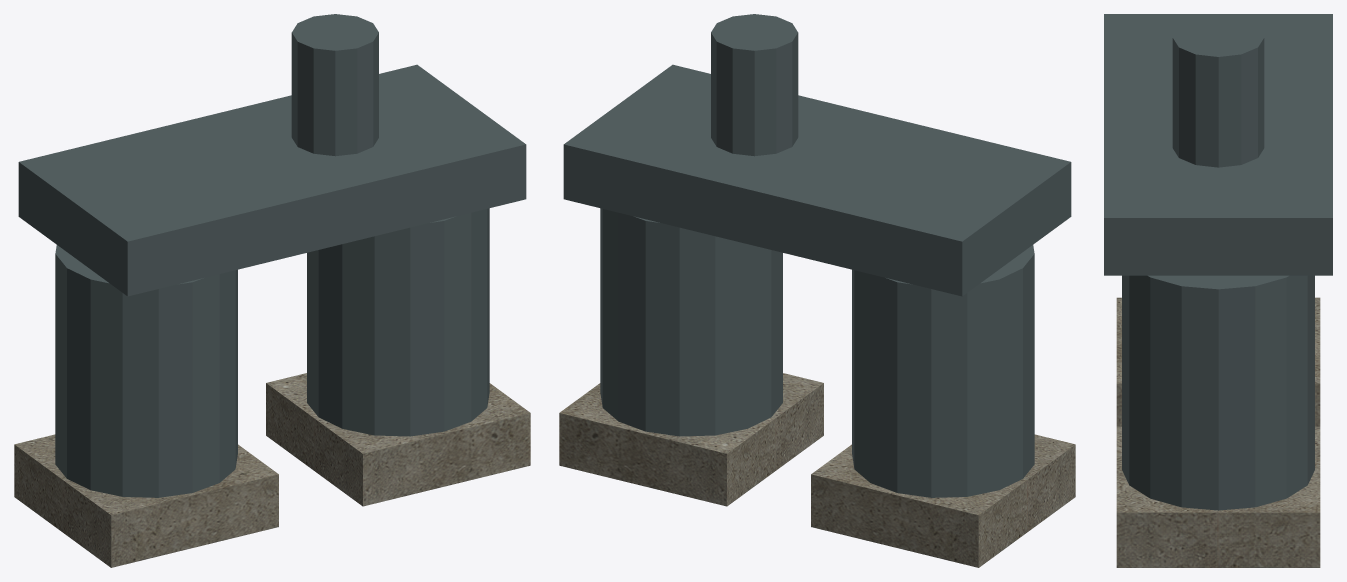
File: atp_compressor.glb
3 renders of one model, left to right at view 1: azimuth 30°, elevation 25°; view 2: azimuth 150°, elevation 25°; view 3: azimuth 270°, elevation 25°, orthographic. The views are drawn at different scales.
Parts seen in each view (by area): view 1: atp_compressor; view 2: atp_compressor; view 3: atp_compressor.
Part boxes in pixels (x1,y1,x2,y2): atp_compressor: [14, 14, 530, 567]; atp_compressor: [559, 14, 1075, 567]; atp_compressor: [1104, 14, 1332, 567].
Size of the model in its own units: 2 by 1.98 by 0.9.
Materials: 2 (1 with a texture image).
